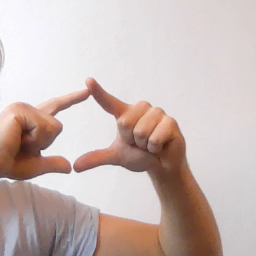J: (1, 75, 188, 176)
